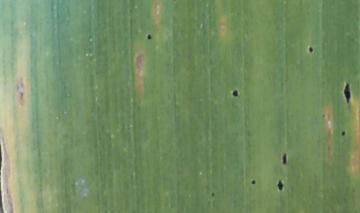tarspot: (341, 79, 355, 106), (14, 77, 27, 103), (280, 151, 291, 167), (230, 86, 241, 98), (277, 178, 286, 192), (307, 42, 316, 55), (143, 32, 155, 41), (340, 129, 348, 139), (209, 190, 218, 198), (251, 178, 258, 187)
